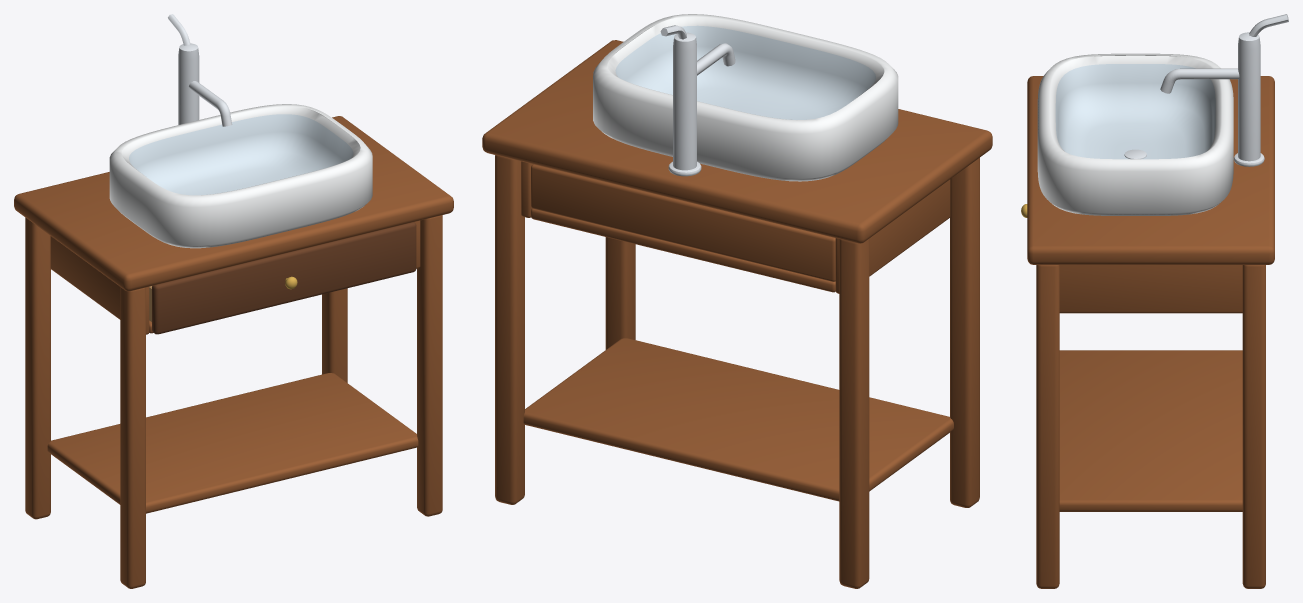
The model's file is pia_bancada_madeira.glb.
3 renders of one model, left to right at view 1: azimuth 30°, elevation 25°; view 2: azimuth 150°, elevation 25°; view 3: azimuth 270°, elevation 25°, orthographic. The views are drawn at different scales.
Visible parts, largest first — view 1: pia_bancada_madeira, gaveta_1; view 2: pia_bancada_madeira; view 3: pia_bancada_madeira.
Boxes of the visible parts, box(x1,y1,x2,y2) form: pia_bancada_madeira: box(14, 14, 453, 588); gaveta_1: box(149, 222, 416, 334); pia_bancada_madeira: box(482, 14, 992, 588); pia_bancada_madeira: box(1027, 14, 1288, 588).
Bounding box in the file's own units: 0.8 × 1.05 × 0.5189.
1 material, 1 textured.
